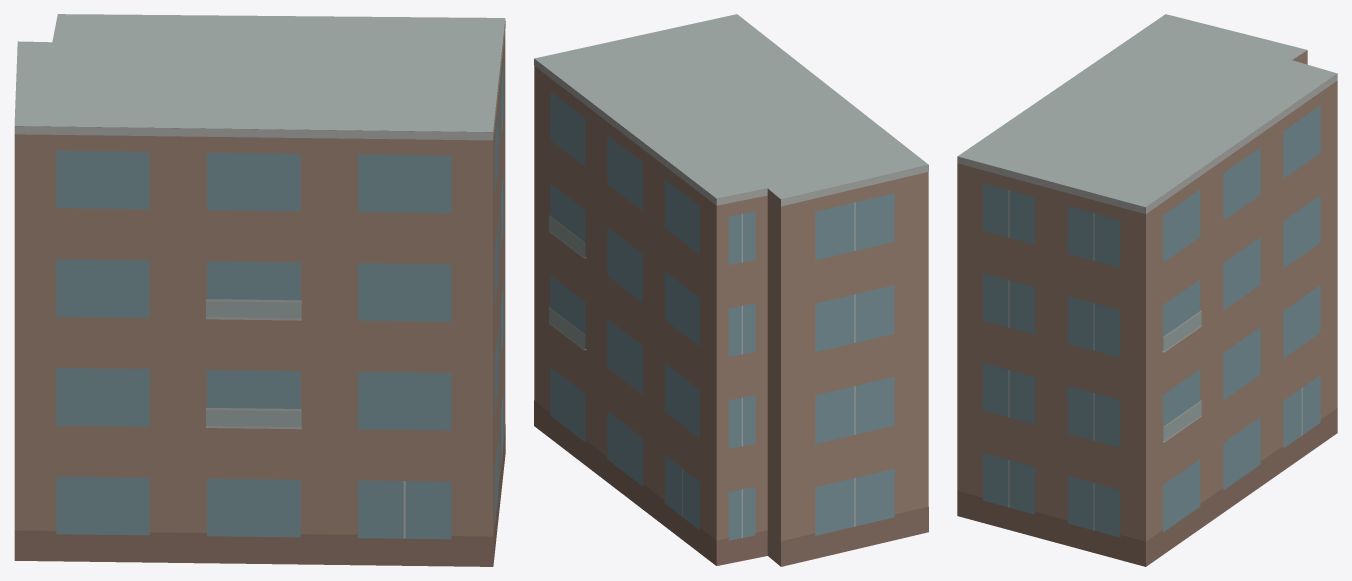
File: survey-upis-32988514.glb
The picture shows the model from 3 angles, left to right: view 1: azimuth 30°, elevation 25°; view 2: azimuth 150°, elevation 25°; view 3: azimuth 270°, elevation 25°; orthographic projection. The views are drawn at different scales.
Parts seen in each view (by area): view 1: survey-upis-32988514.tmp; view 2: survey-upis-32988514.tmp; view 3: survey-upis-32988514.tmp.
Part boxes in pixels (box(x1,y1,x2,y2)): survey-upis-32988514.tmp: box(14, 14, 505, 566); survey-upis-32988514.tmp: box(534, 14, 928, 566); survey-upis-32988514.tmp: box(957, 14, 1337, 566).
Bounding box in the file's own units: 14.65 × 12.7 × 12.18.
